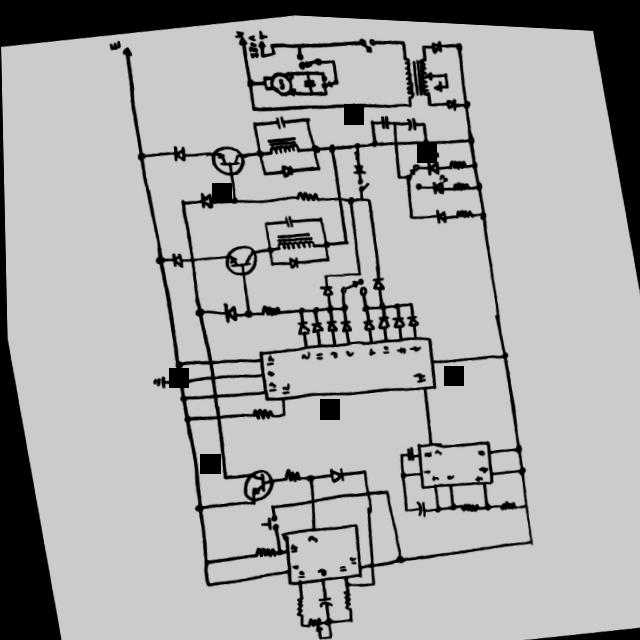capacitor: (271, 111, 288, 129), (411, 495, 425, 514), (313, 592, 331, 606), (377, 110, 391, 126), (402, 441, 414, 458), (280, 212, 293, 227), (404, 113, 417, 127), (302, 75, 316, 86)
crossover: (305, 494, 315, 503), (361, 486, 370, 495), (207, 372, 215, 380), (365, 558, 373, 566), (391, 135, 398, 143), (212, 412, 220, 419), (210, 391, 217, 398), (205, 357, 212, 364), (187, 255, 194, 262), (335, 193, 341, 198)
diode: (421, 145, 441, 172), (429, 169, 449, 191), (220, 300, 238, 323), (196, 188, 214, 210), (324, 463, 343, 480), (170, 142, 186, 162), (168, 249, 184, 268), (432, 203, 448, 221), (374, 310, 390, 327), (277, 160, 294, 176), (368, 272, 385, 288), (293, 317, 309, 334), (316, 280, 334, 295), (428, 35, 443, 51), (323, 316, 338, 331), (389, 311, 405, 325), (350, 158, 365, 172), (359, 314, 374, 328), (286, 252, 300, 267), (404, 311, 419, 324), (338, 315, 351, 330), (444, 93, 457, 107), (308, 318, 323, 330)
ground: (149, 373, 166, 390), (432, 76, 442, 89)
inductor: (273, 227, 315, 250), (264, 132, 300, 155)
junction: (173, 375, 185, 386), (152, 253, 164, 264), (461, 94, 472, 105), (228, 193, 239, 204), (171, 357, 182, 368), (476, 204, 487, 215), (511, 439, 522, 450), (358, 300, 370, 310), (309, 141, 320, 151), (302, 471, 313, 481), (191, 502, 202, 512), (430, 500, 441, 510), (445, 497, 456, 507), (453, 37, 464, 47), (514, 460, 525, 470), (180, 412, 191, 422), (308, 302, 319, 312), (242, 306, 252, 317), (468, 155, 479, 165), (472, 176, 483, 186), (392, 551, 402, 561), (465, 131, 475, 141), (177, 196, 187, 206), (339, 234, 349, 244), (344, 192, 354, 202), (193, 306, 203, 316), (498, 346, 508, 355), (396, 467, 406, 476), (244, 76, 253, 86), (326, 141, 335, 150), (398, 34, 407, 43), (136, 151, 145, 160), (338, 300, 347, 309), (320, 615, 330, 623), (265, 243, 273, 252), (302, 113, 311, 121), (220, 471, 228, 480), (250, 101, 258, 110), (199, 557, 208, 565), (256, 147, 264, 156), (295, 304, 304, 312), (176, 393, 185, 401), (481, 497, 489, 506), (201, 579, 209, 587), (315, 212, 323, 220), (344, 613, 352, 621), (369, 136, 377, 144), (358, 464, 366, 472), (380, 485, 388, 493), (294, 39, 302, 47), (425, 96, 433, 104), (419, 39, 427, 47), (377, 299, 385, 307), (324, 302, 332, 310), (366, 577, 375, 584), (405, 297, 413, 304), (525, 533, 532, 541), (261, 167, 268, 175), (519, 497, 527, 504), (400, 502, 407, 510), (321, 253, 329, 260), (332, 74, 339, 82), (420, 134, 427, 142), (391, 298, 399, 305), (266, 502, 274, 509), (247, 498, 255, 505), (267, 258, 274, 265), (405, 97, 412, 104), (262, 218, 268, 225), (251, 119, 258, 125), (329, 55, 336, 61), (443, 79, 449, 86), (314, 161, 320, 168), (420, 117, 426, 124), (322, 238, 328, 245), (354, 267, 361, 273), (274, 546, 280, 553), (407, 210, 413, 216), (353, 139, 359, 145), (322, 270, 328, 276), (279, 409, 285, 415), (441, 68, 448, 73), (391, 117, 397, 122), (369, 116, 374, 122), (364, 194, 370, 199), (323, 631, 329, 636), (296, 620, 302, 625), (323, 88, 328, 93), (304, 67, 309, 72), (271, 48, 276, 53), (315, 632, 320, 637), (320, 68, 325, 72), (309, 88, 313, 93), (259, 51, 264, 55), (396, 170, 400, 175), (358, 193, 362, 198)
resistor: (293, 186, 320, 201), (249, 404, 273, 419), (257, 301, 281, 316), (302, 613, 320, 632), (280, 466, 299, 482), (251, 543, 274, 556), (338, 586, 351, 609), (452, 203, 473, 216), (496, 494, 515, 508), (291, 595, 303, 616), (457, 497, 477, 508), (447, 155, 465, 167), (451, 176, 469, 188), (352, 147, 360, 158)
switch: (337, 274, 369, 296), (402, 160, 423, 187), (294, 48, 322, 67), (356, 31, 380, 52), (255, 512, 278, 531), (355, 174, 370, 189), (319, 72, 333, 87)
terminal: (121, 46, 133, 56), (237, 35, 247, 43), (257, 38, 266, 46)
text: (246, 32, 260, 57), (410, 367, 425, 379), (264, 375, 275, 390), (106, 39, 121, 50), (277, 380, 290, 392), (364, 342, 376, 354), (262, 352, 274, 364), (303, 531, 316, 542), (313, 564, 325, 575), (342, 344, 354, 355), (326, 346, 338, 357), (343, 551, 354, 563), (407, 339, 420, 349), (286, 540, 297, 551), (420, 444, 431, 455), (378, 341, 390, 351), (334, 560, 346, 570), (291, 566, 303, 576), (232, 27, 245, 36), (298, 348, 309, 358), (394, 342, 405, 352), (442, 468, 454, 477), (258, 27, 268, 37), (475, 461, 486, 470), (312, 349, 322, 358), (264, 367, 274, 376), (475, 443, 484, 452), (431, 444, 441, 452), (470, 470, 481, 477), (429, 470, 438, 478), (420, 465, 429, 471), (288, 561, 297, 567)
transformer: (397, 48, 435, 97)
transistor: (221, 240, 259, 277), (208, 140, 247, 176), (237, 465, 273, 500)
